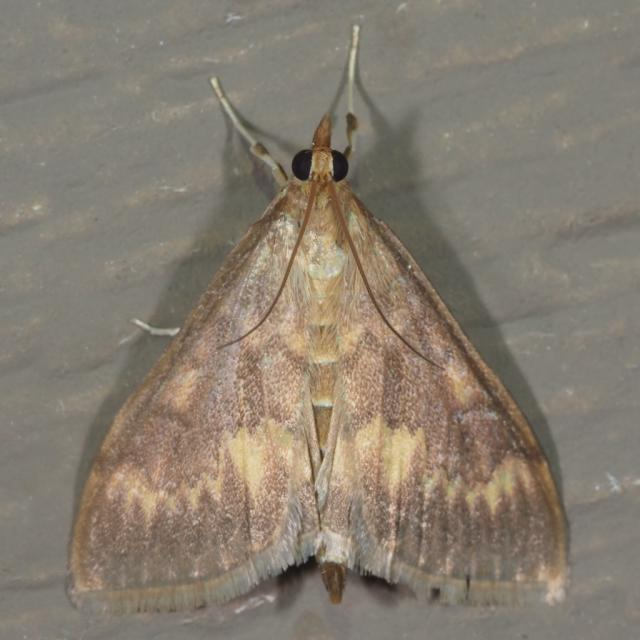cornborer-Adult-: (46, 19, 589, 618)
